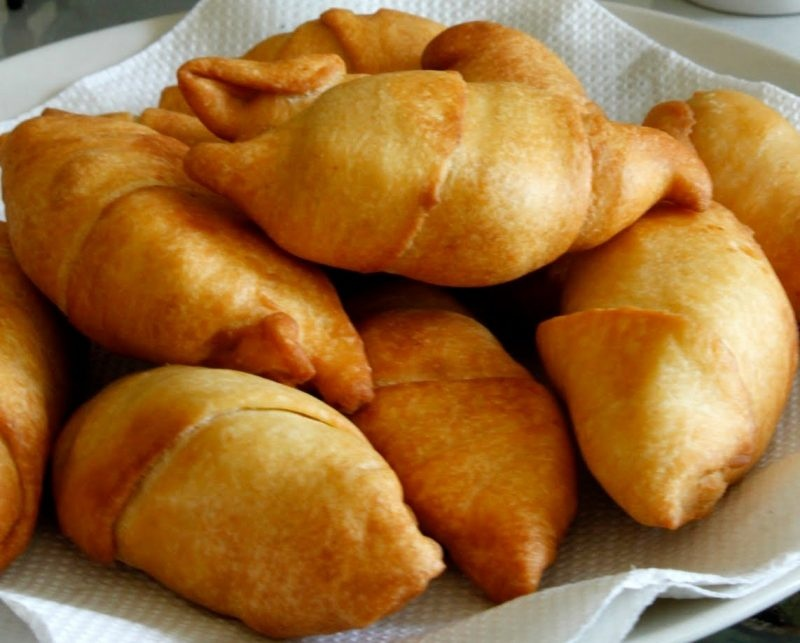pisang_molen: (190, 65, 717, 289), (55, 364, 445, 639)
